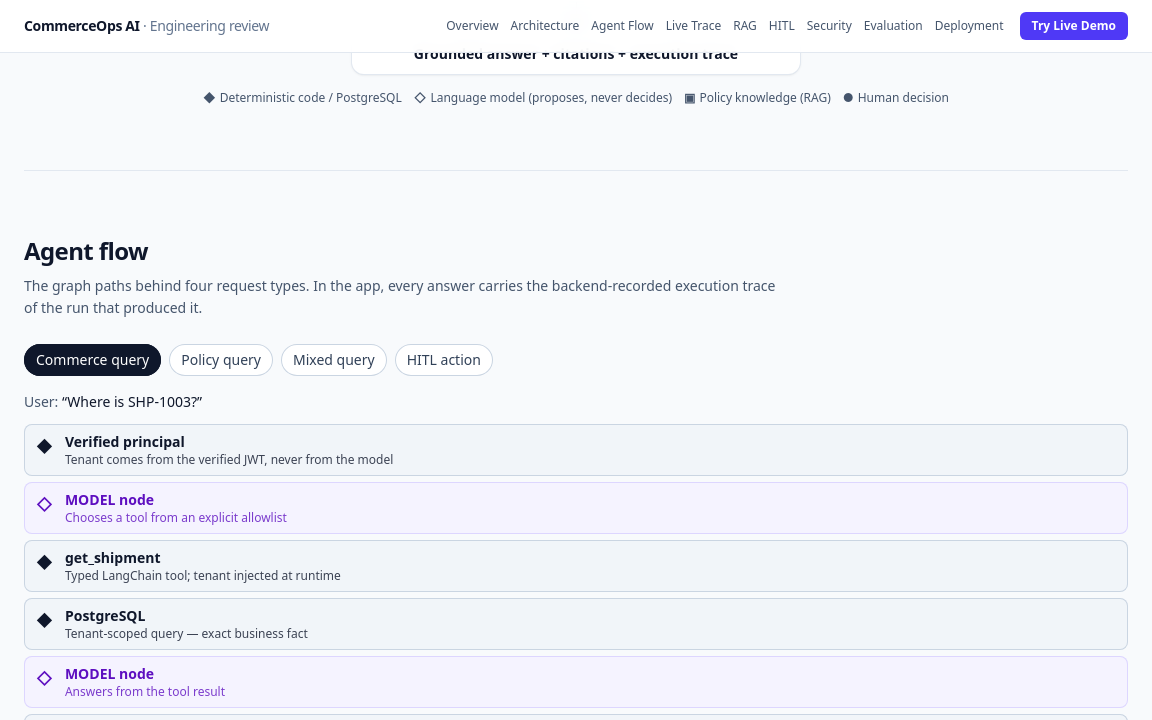
Test case: /review (public, no auth) › walkthrough tabs switch flows and the HITL flow shows the write boundary
The image size is (1152, 720).
(page scrolled)
Expected: the text "get_shipment" is shown, [65,548,160,567]
Step 1. Click the tab "Mixed query" → (334, 360), box [281,344,387,376]
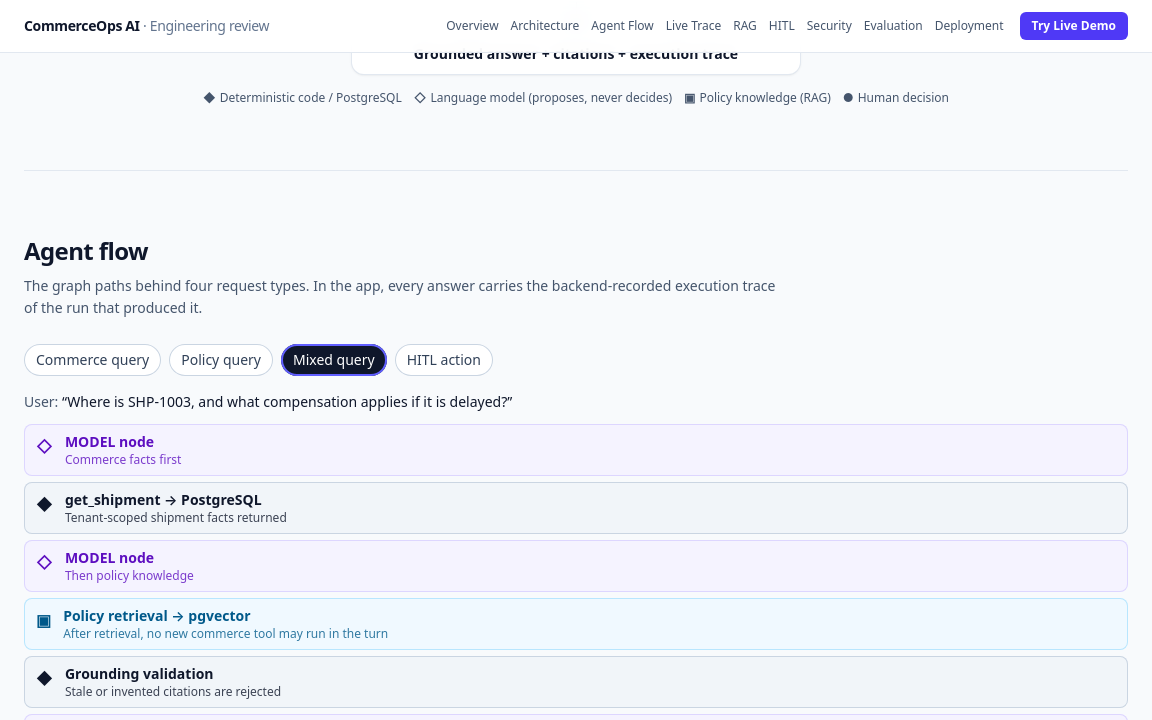
Now the text "what compensation applies if it is delayed" is shown, box [67,392,507,411]
Step 2. Click the tab "HITL action" → (444, 360), box [395,344,493,376]
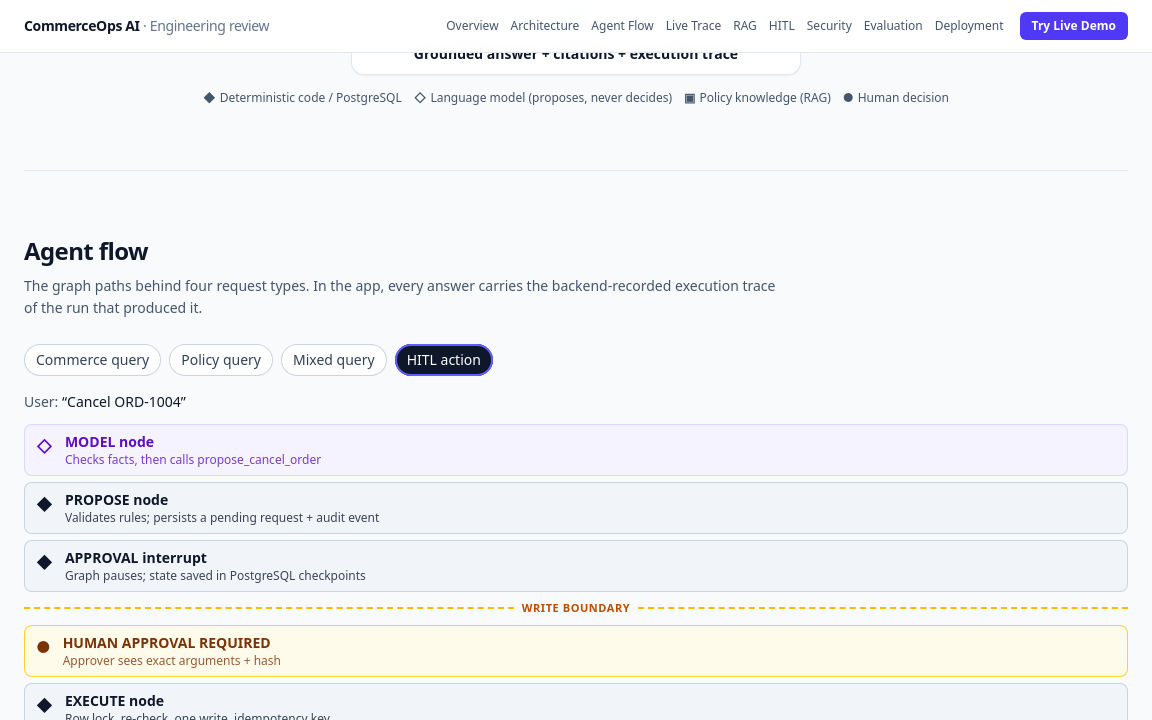
Now the text "HUMAN APPROVAL REQUIRED" is shown, box [63,632,281,652]
Now the text "Write boundary" is shown, box [24,600,1128,616]
